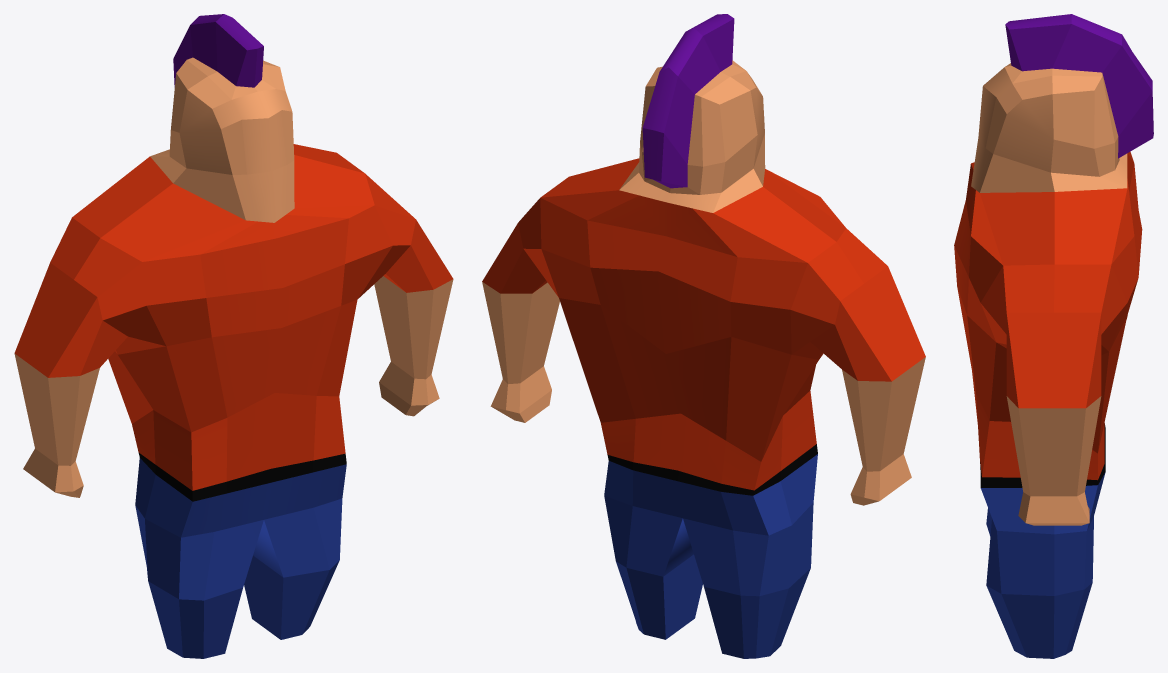
Rendered from The_Big_One.FBX.
3 renders of one model, left to right at view 1: azimuth 30°, elevation 25°; view 2: azimuth 150°, elevation 25°; view 3: azimuth 270°, elevation 25°, orthographic.
Parts seen in each view (by area): view 1: Big One; view 2: Big One; view 3: Big One.
Boxes of the visible parts, box(x1,y1,x2,y2) form: Big One: box(14, 14, 453, 658); Big One: box(482, 14, 925, 658); Big One: box(954, 14, 1153, 658).
Size of the model in its own units: 160 by 67.99 by 230.
